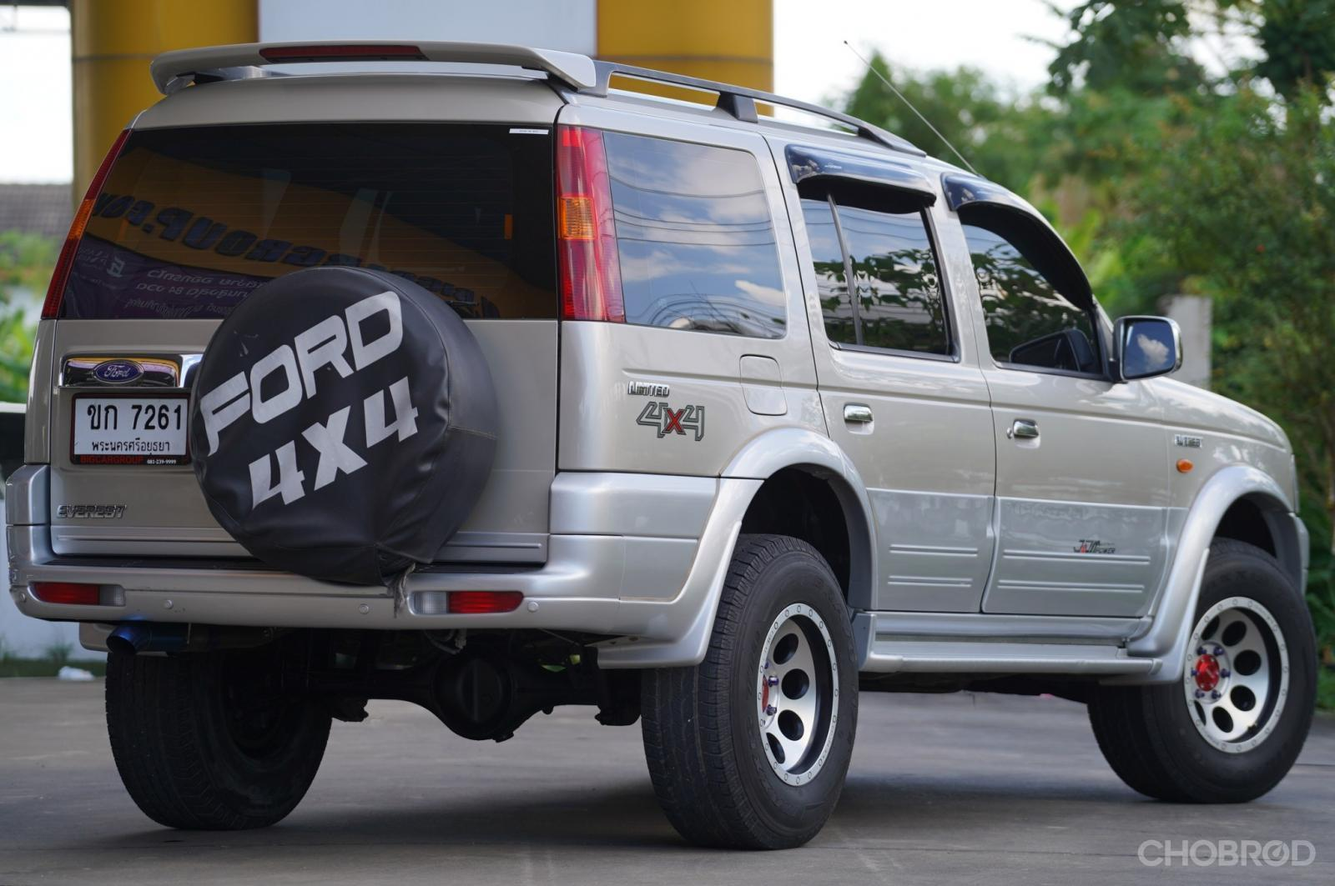license-plate: (70, 390, 192, 466)
